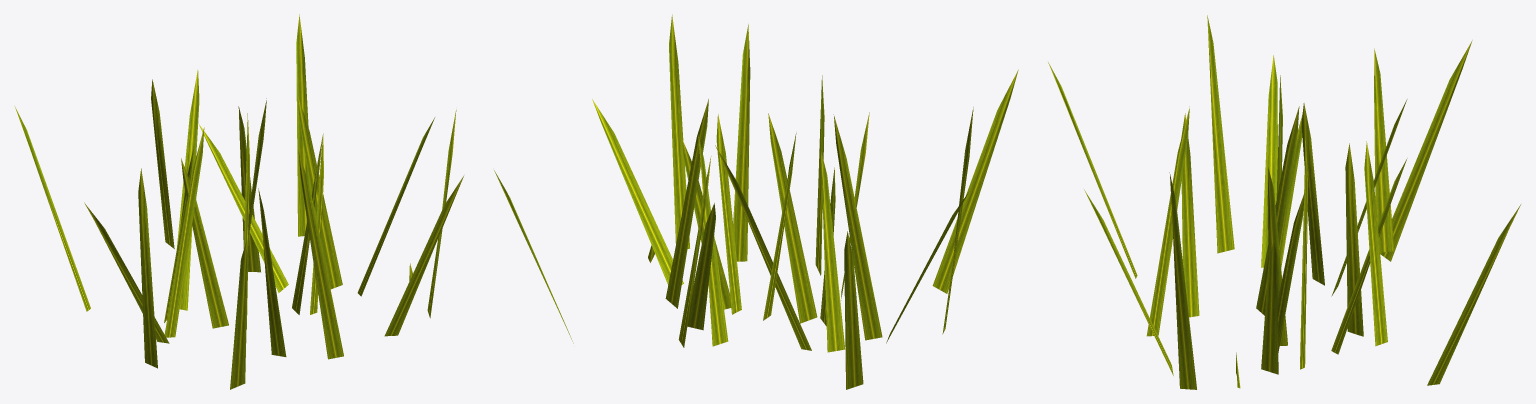
The model's file is shortgrasspatch1.FBX.
3 renders of one model, left to right at view 1: azimuth 30°, elevation 25°; view 2: azimuth 150°, elevation 25°; view 3: azimuth 270°, elevation 25°, orthographic. The views are drawn at different scales.
Visible parts, largest first — view 1: grassb028; view 2: grassb028; view 3: grassb028.
Part boxes in pixels (x1=…): grassb028: x1=14, y1=14, x2=463, y2=389; grassb028: x1=494, y1=14, x2=1018, y2=389; grassb028: x1=1048, y1=15, x2=1520, y2=389.
Size of the model in its own units: 365 by 392 by 229.
